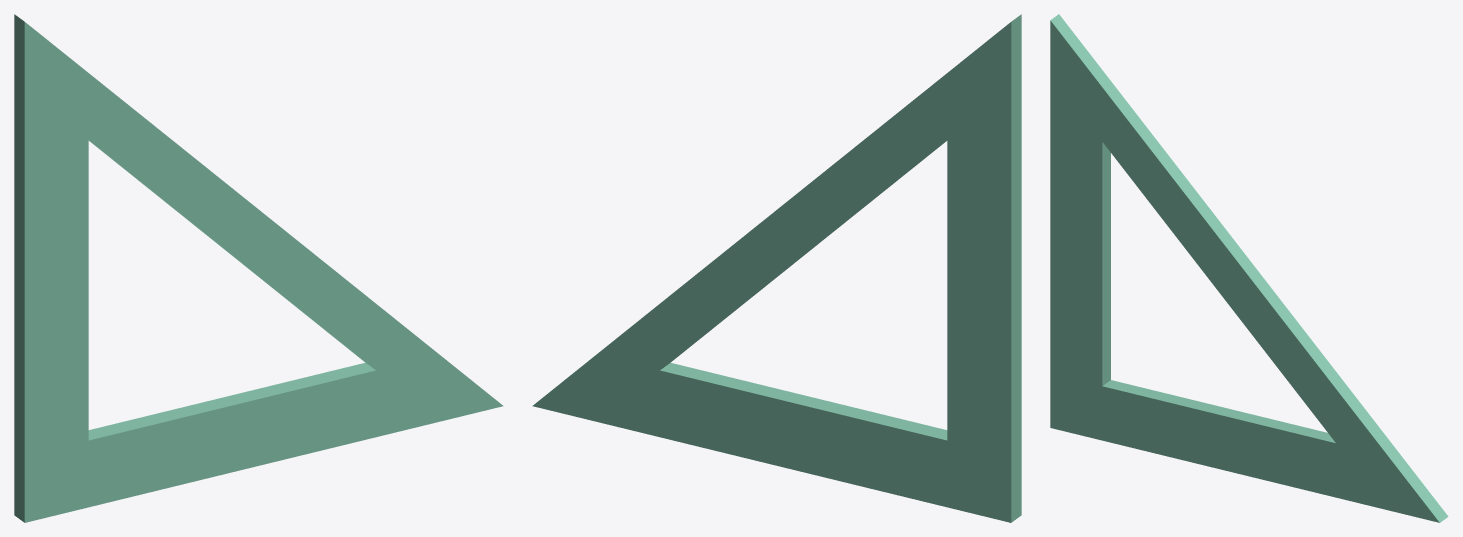
The model's file is triangleRuler1.fbx.
The picture shows the model from 3 angles, left to right: view 1: azimuth 30°, elevation 25°; view 2: azimuth 150°, elevation 25°; view 3: azimuth 330°, elevation 25°; orthographic projection. The views are drawn at different scales.
Visible parts, largest first — view 1: Plane.006; view 2: Plane.006; view 3: Plane.006.
Boxes of the visible parts, bbox=[...] form: Plane.006: bbox=[14, 14, 503, 522]; Plane.006: bbox=[532, 14, 1021, 522]; Plane.006: bbox=[1050, 14, 1448, 522].
Bounding box in the file's own units: 32.92 × 32.92 × 1.26.
